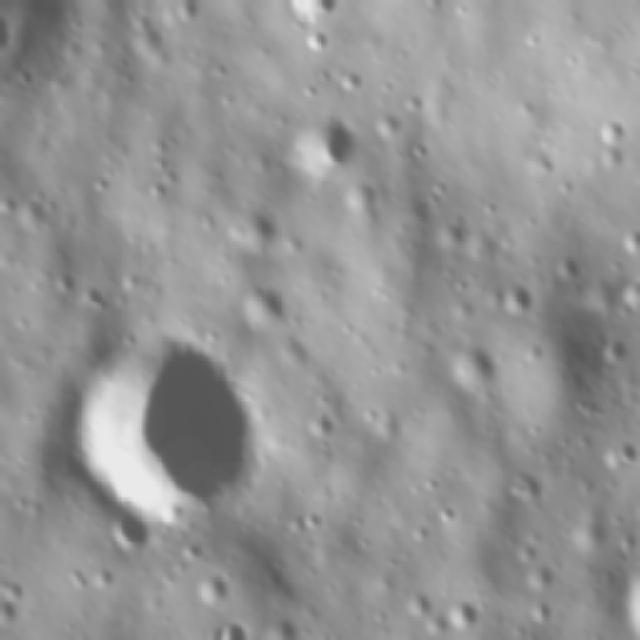crater: (62, 338, 255, 508), (303, 109, 354, 180), (452, 346, 500, 396), (221, 207, 285, 244), (243, 280, 297, 322), (95, 512, 157, 546), (440, 597, 483, 629), (194, 565, 228, 598), (498, 284, 531, 316), (278, 0, 347, 15), (612, 437, 638, 475), (615, 225, 640, 258), (219, 614, 250, 640), (432, 500, 462, 526), (0, 0, 11, 63)
